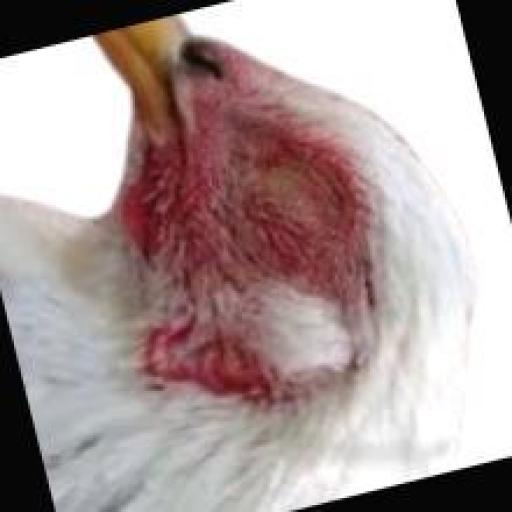disease: (237, 130, 357, 240)
